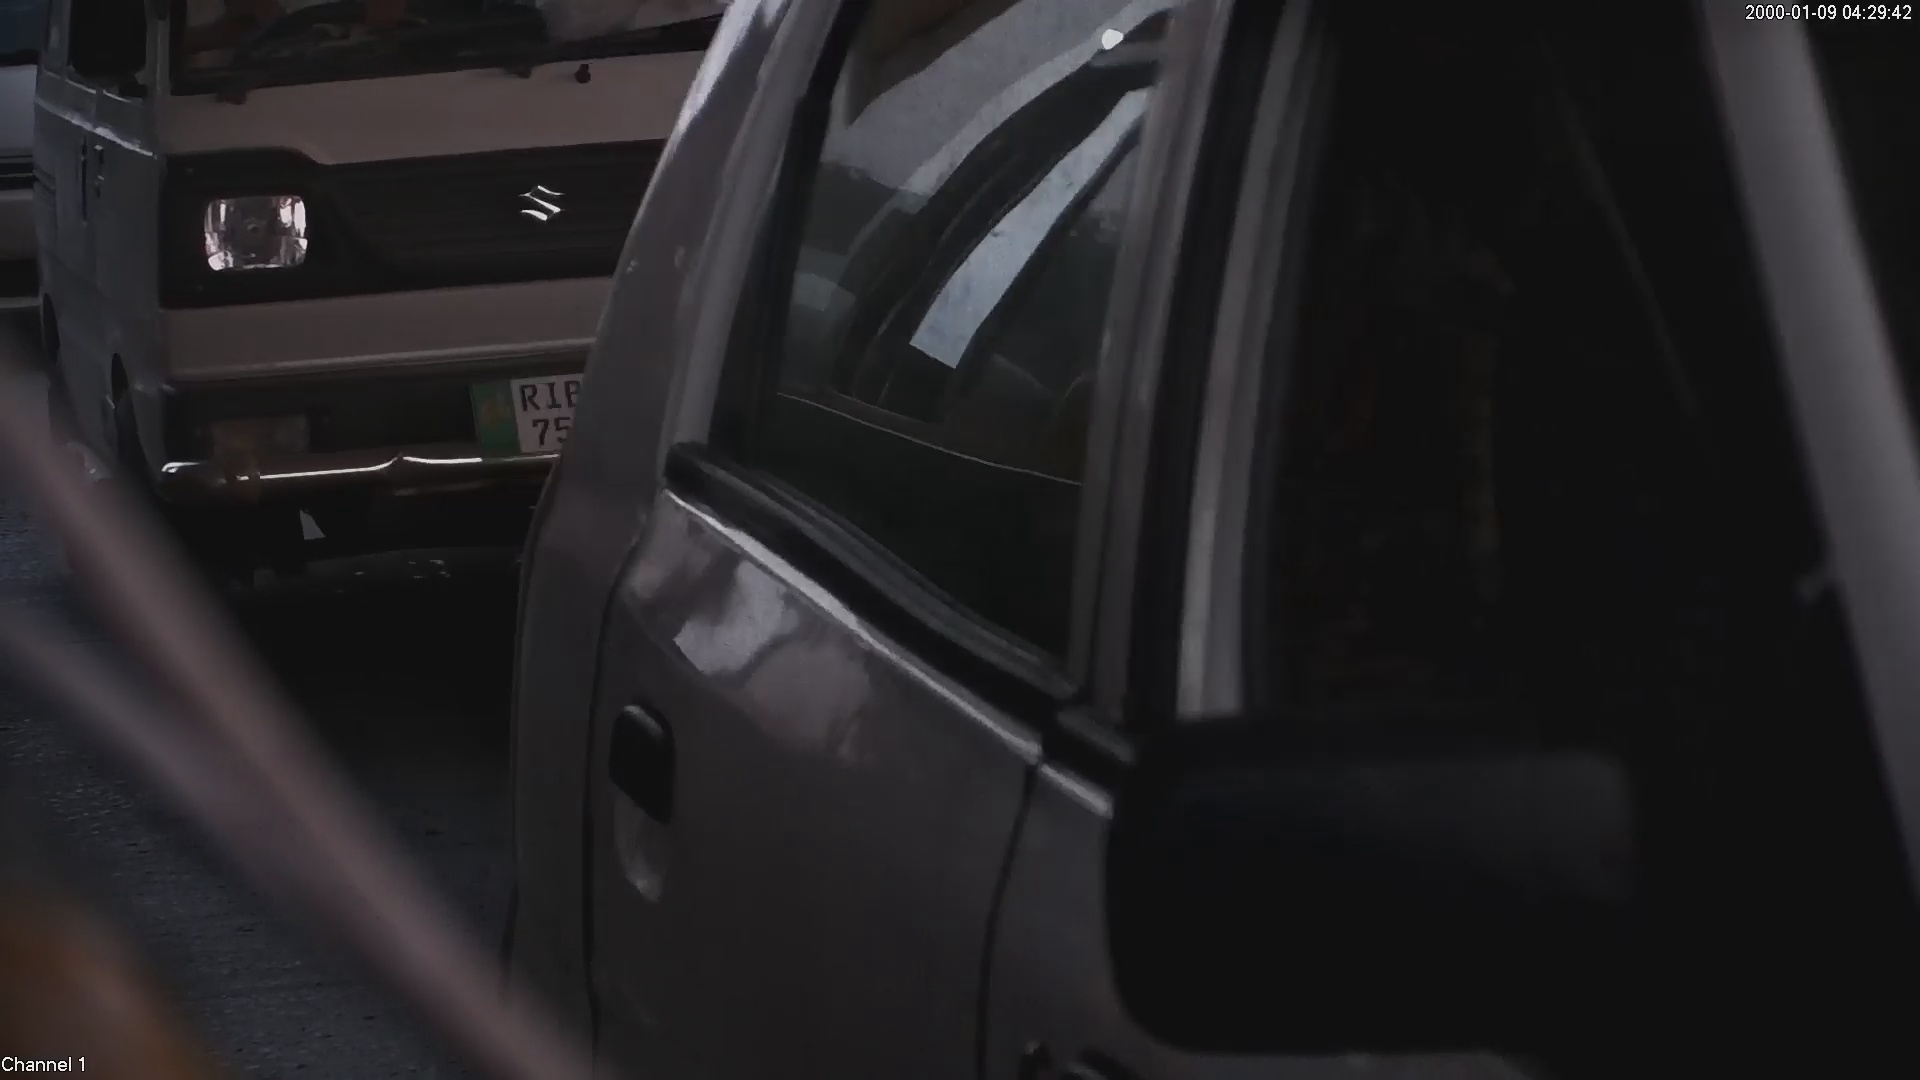Number_Plate: (447, 355, 615, 464)
